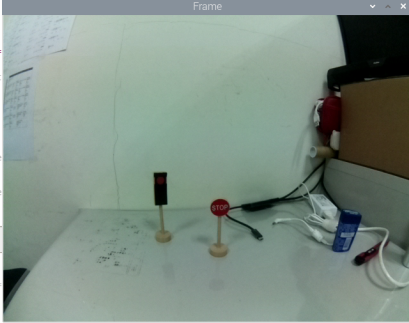Red: (151, 169, 171, 211)
Stop: (206, 199, 233, 217)
